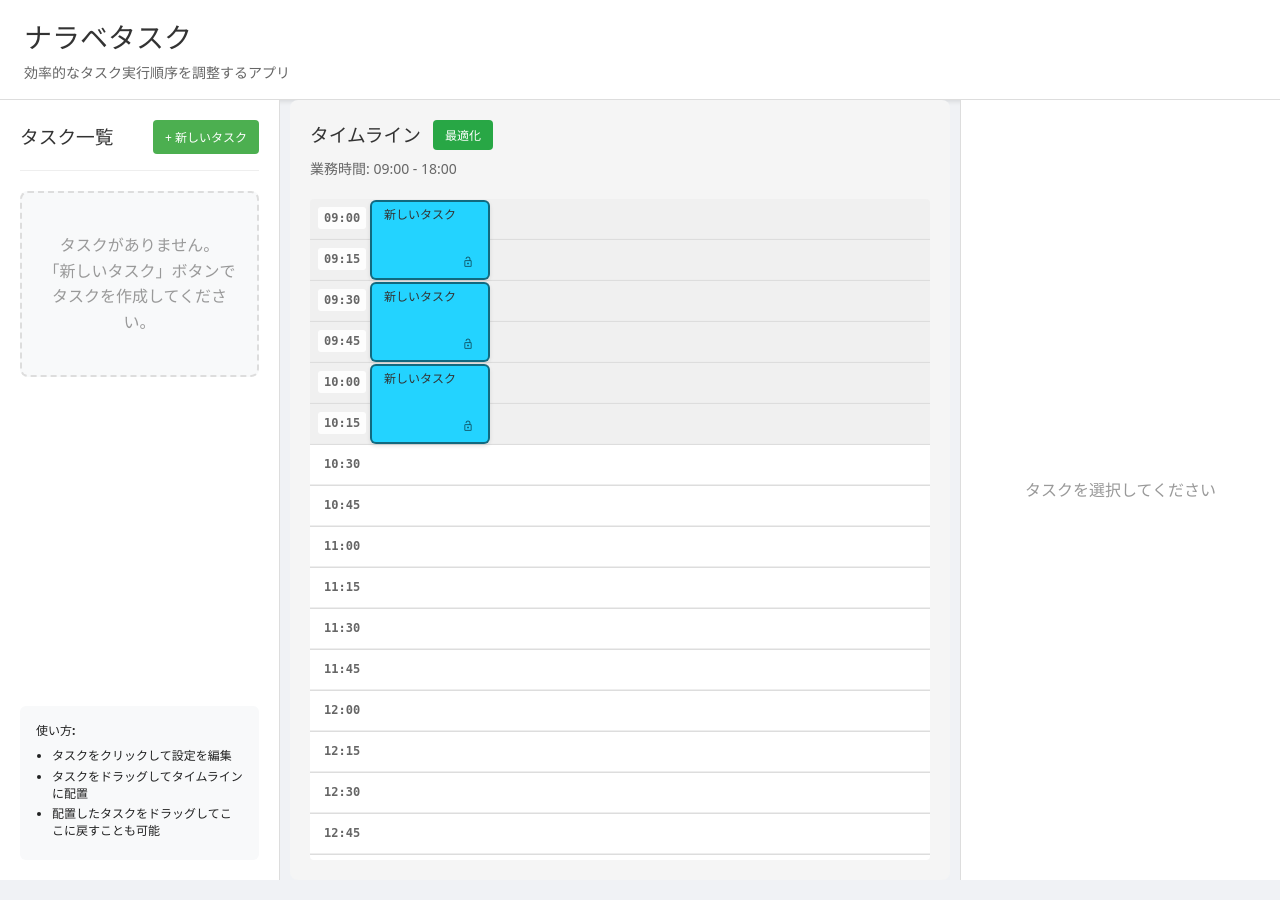
Test case: 最適化機能の統合テスト › 最適化後にタスクの選択状態がクリアされる
Click the button "+ 新しいタスク" at (206, 137), box [153,120,259,154]
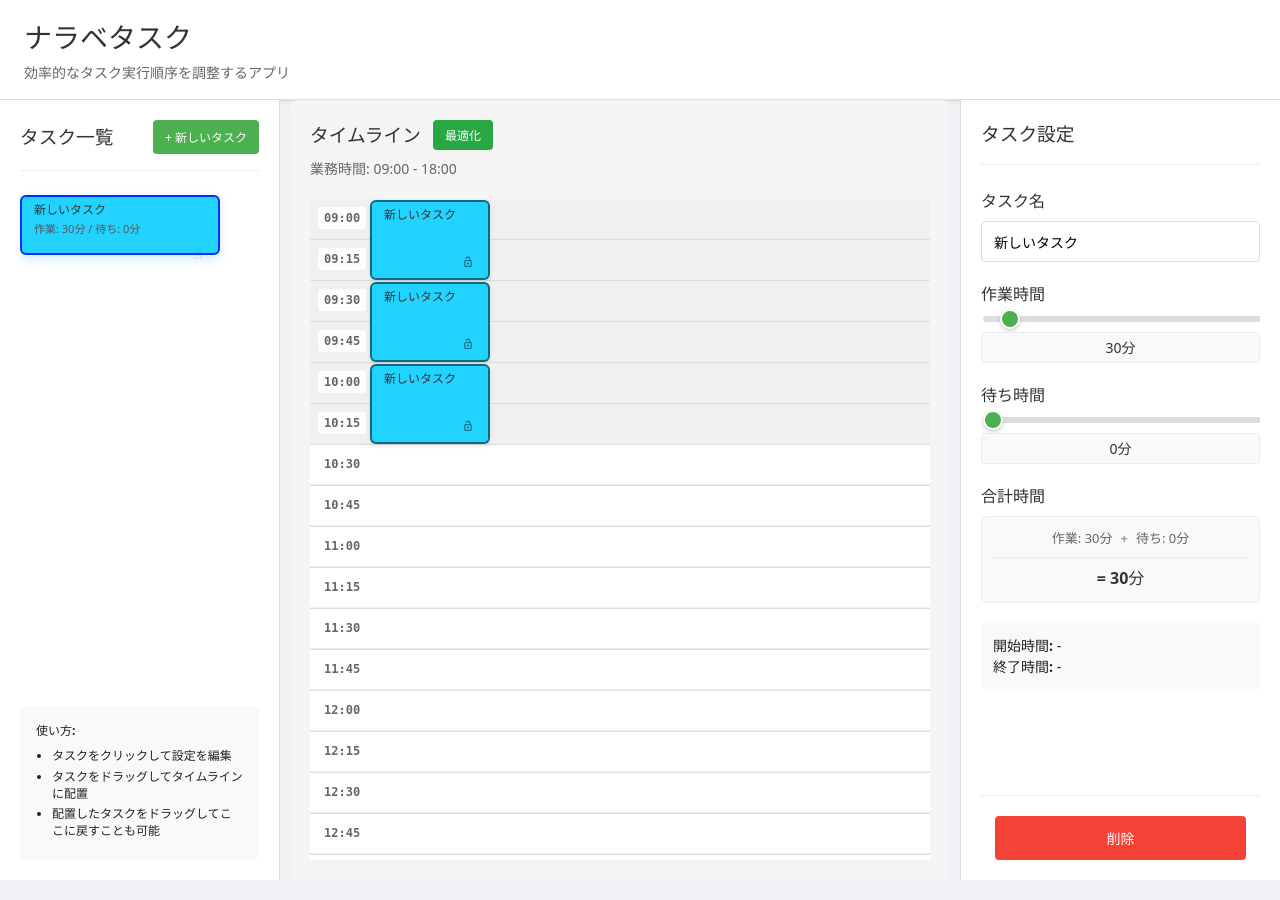
Expected: the heading "タスク設定" is shown, [981,120,1074,148]
Click the button "最適化" at (463, 135), box [433,120,493,150]
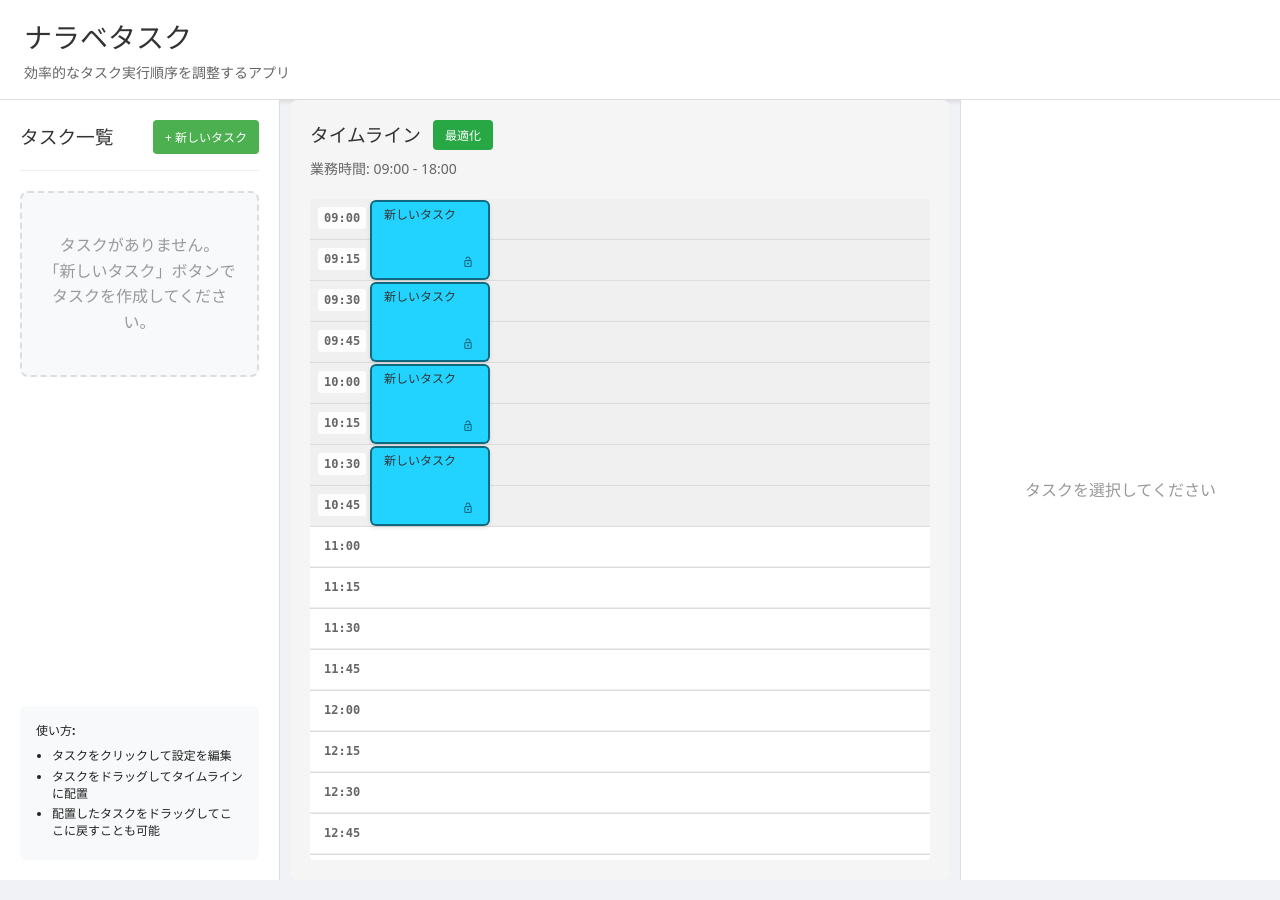
Expected: the text "タスクを選択してください" is shown, [1025,478,1216,502]
